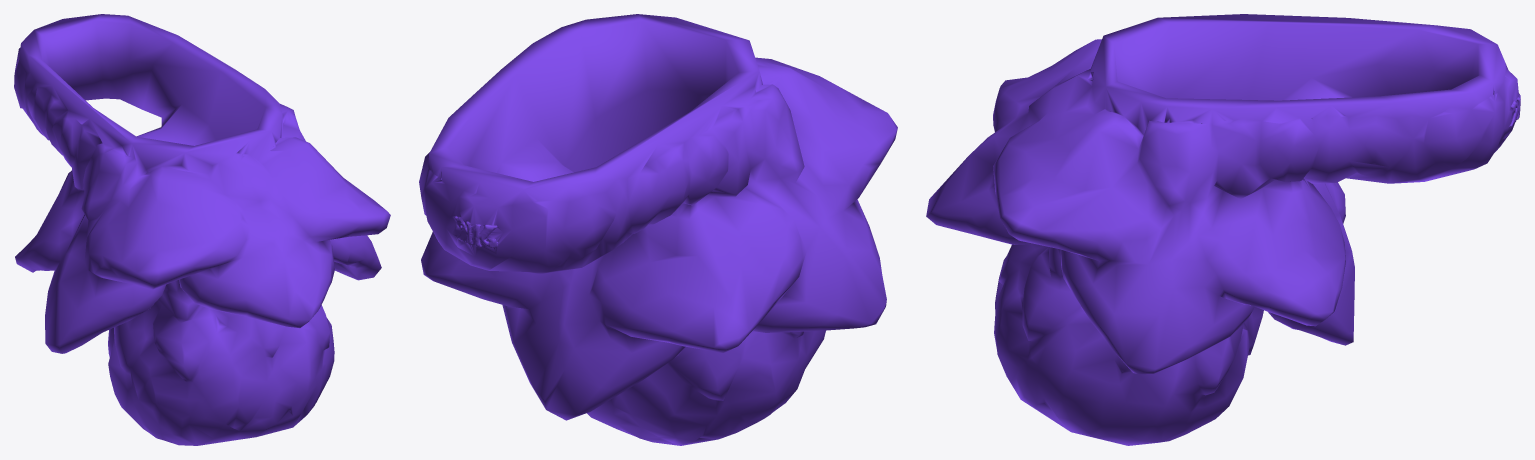
The model's file is flower-well-ar.glb.
The picture shows the model from 3 angles, left to right: view 1: azimuth 30°, elevation 25°; view 2: azimuth 150°, elevation 25°; view 3: azimuth 270°, elevation 25°; orthographic projection. The views are drawn at different scales.
Size of the model in its own units: 0.0911 by 0.0817 by 0.1204.
